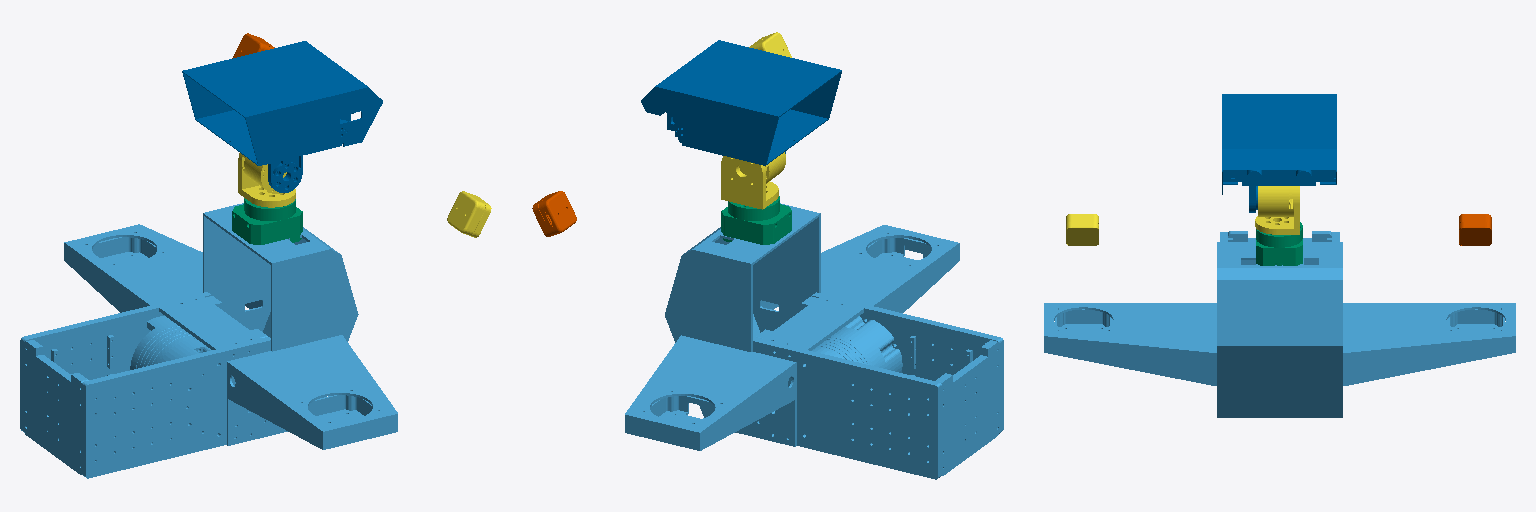
robot.urdf — arx_lift:
<?xml version="1.0" ?>
<!-- =================================================================================== -->
<!-- |    This document was autogenerated by xacro from robot.xacro                    | -->
<!-- |    EDITING THIS FILE BY HAND IS NOT RECOMMENDED                                 | -->
<!-- =================================================================================== -->
<robot name="arx_lift">
  <link name="left_base_link">
    <inertial>
      <origin xyz="-3.0001E-05 3.0589E-05 0.027324"/>
      <mass value="0.43995"/>
      <inertia ixx="0.00017" ixy="0.00000" ixz="0.00000" iyy="0.00017" iyz="0.00000" izz="0.00016"/>
    </inertial>
    <visual>
      <geometry>
        <mesh filename="package://arx5_description/meshes/x5/base_link.obj"/>
      </geometry>
    </visual>
    <collision>
      <geometry>
        <mesh filename="package://arx5_description/meshes/x5/base_link.obj"/>
      </geometry>
    </collision>
  </link>
  <link name="left_link1">
    <inertial>
      <origin xyz="0.0054231 -0.0080289 0.017086"/>
      <mass value="0.066982"/>
      <inertia ixx="0.00008" ixy="0.00000" ixz="0.00001" iyy="0.00003" iyz="0.00000" izz="0.00008"/>
    </inertial>
    <visual>
      <geometry>
        <mesh filename="package://arx5_description/meshes/x5/link1.obj"/>
      </geometry>
    </visual>
    <collision>
      <geometry>
        <mesh filename="package://arx5_description/meshes/x5/link1.obj"/>
      </geometry>
    </collision>
  </link>
  <joint name="left_joint1" type="revolute">
    <origin xyz="0 0 0.0605"/>
    <parent link="left_base_link"/>
    <child link="left_link1"/>
    <axis xyz="0 0 1"/>
    <limit effort="100" lower="-2.87" upper="3.14" velocity="5"/>
  </joint>
  <link name="left_link2">
    <inertial>
      <origin xyz="-0.13237 0.0020852 0.00010549"/>
      <mass value="1.0795"/>
      <inertia ixx="0.00051" ixy="0.00001" ixz="-0.00004" iyy="0.01599" iyz="0.00000" izz="0.01605"/>
    </inertial>
    <visual>
      <geometry>
        <mesh filename="package://arx5_description/meshes/x5/link2.obj"/>
      </geometry>
    </visual>
    <collision>
      <geometry>
        <mesh filename="package://arx5_description/meshes/x5/link2.obj"/>
      </geometry>
    </collision>
  </link>
  <joint name="left_joint2" type="revolute">
    <origin xyz="0.02 0 0.04"/>
    <parent link="left_link1"/>
    <child link="left_link2"/>
    <axis xyz="0 1 0"/>
    <limit effort="100" lower="0" upper="3.66" velocity="5"/>
  </joint>
  <link name="left_link3">
    <inertial>
      <origin xyz="0.18531 0.00068376 -0.051638"/>
      <mass value="0.54534"/>
      <inertia ixx="0.00036" ixy="-0.00003" ixz="-0.00039" iyy="0.00423" iyz="0.00001" izz="0.00420"/>
    </inertial>
    <visual>
      <geometry>
        <mesh filename="package://arx5_description/meshes/x5/link3.obj"/>
      </geometry>
    </visual>
    <collision>
      <geometry>
        <mesh filename="package://arx5_description/meshes/x5/link3.obj"/>
      </geometry>
    </collision>
  </link>
  <joint name="left_joint3" type="revolute">
    <origin rpy="3.1416 0 0" xyz="-0.264 0 0"/>
    <parent link="left_link2"/>
    <child link="left_link3"/>
    <axis xyz="0 1 0"/>
    <limit effort="100" lower="0" upper="3.14" velocity="5"/>
  </joint>
  <link name="left_link4">
    <inertial>
      <origin xyz="0.040231 0.0044807 -0.035335"/>
      <mass value="0.11714"/>
      <inertia ixx="0.00019" ixy="-0.00002" ixz="-0.00009" iyy="0.00023" iyz="0.00002" izz="0.00014"/>
    </inertial>
    <visual>
      <geometry>
        <mesh filename="package://arx5_description/meshes/x5/link4.obj"/>
      </geometry>
    </visual>
    <collision>
      <geometry>
        <mesh filename="package://arx5_description/meshes/x5/link4.obj"/>
      </geometry>
    </collision>
  </link>
  <joint name="left_joint4" type="revolute">
    <origin xyz="0.245 0 -0.056"/>
    <parent link="left_link3"/>
    <child link="left_link4"/>
    <axis xyz="0 1 0"/>
    <limit effort="100" lower="-1.57" upper="1.57" velocity="5"/>
  </joint>
  <link name="left_link5">
    <inertial>
      <origin xyz="0.003612 -1.5455E-05 0.055214"/>
      <mass value="0.63488"/>
      <inertia ixx="0.00083" ixy="0.00000" ixz="0.00007" iyy="0.00082" iyz="0.00000" izz="0.00026"/>
    </inertial>
    <visual>
      <origin xyz="0.0037 0 0"/>
      <geometry>
        <mesh filename="package://arx5_description/meshes/x5/link5.obj"/>
      </geometry>
    </visual>
    <collision>
      <geometry>
        <mesh filename="package://arx5_description/meshes/x5/link5.obj"/>
      </geometry>
    </collision>
  </link>
  <joint name="left_joint5" type="revolute">
    <origin xyz="0.06775 0.0005 -0.0865"/>
    <parent link="left_link4"/>
    <child link="left_link5"/>
    <axis xyz="0 0 1"/>
    <limit effort="100" lower="-1.57" upper="1.57" velocity="5"/>
  </joint>
  <link name="left_link6">
    <inertial>
      <origin xyz="0.041697 2.4368E-05 0.00014464"/>
      <mass value="0.44089"/>
      <inertia ixx="0.00038" ixy="0.00000" ixz="0.00000" iyy="0.00028" iyz="0.00000" izz="0.00050"/>
    </inertial>
    <visual>
      <geometry>
        <mesh filename="package://arx5_description/meshes/x5/link6.obj"/>
      </geometry>
    </visual>
    <collision>
      <geometry>
        <mesh filename="package://arx5_description/meshes/x5/link6.obj"/>
      </geometry>
    </collision>
  </link>
  <joint name="left_joint6" type="revolute">
    <origin rpy="-3.1416 0 0" xyz="0.02895 0 0.0865"/>
    <parent link="left_link5"/>
    <child link="left_link6"/>
    <axis xyz="1 0 0"/>
    <limit effort="100" lower="-1.57" upper="1.57" velocity="5"/>
  </joint>
  <link name="left_link7">
    <inertial>
      <origin xyz="-0.00035522 -0.007827 -0.0029883"/>
      <mass value="0.064798"/>
      <inertia ixx="0.00002" ixy="0.00000" ixz="0.00000" iyy="0.00003" iyz="0.00000" izz="0.00003"/>
    </inertial>
    <visual>
      <geometry>
        <mesh filename="package://arx5_description/meshes/x5/link7.obj"/>
      </geometry>
    </visual>
    <collision>
      <geometry>
        <mesh filename="package://arx5_description/meshes/x5/link7.obj"/>
      </geometry>
    </collision>
  </link>
  <joint name="left_gripper_joint" type="prismatic">
    <origin xyz="0.08657 0.024896 -0.0002436"/>
    <parent link="left_link6"/>
    <child link="left_link7"/>
    <axis xyz="0 1 0"/>
    <limit effort="100" lower="0" upper="0.044" velocity="5"/>
  </joint>
  <link name="left_link8">
    <inertial>
      <origin xyz="-0.00035522 0.0078277 0.0024201"/>
      <mass value="0.064798"/>
      <inertia ixx="0.00002" ixy="0.00000" ixz="0.00000" iyy="0.00003" iyz="0.00000" izz="0.00003"/>
    </inertial>
    <visual>
      <geometry>
        <mesh filename="package://arx5_description/meshes/x5/link8.obj"/>
      </geometry>
    </visual>
    <collision>
      <geometry>
        <mesh filename="package://arx5_description/meshes/x5/link8.obj"/>
      </geometry>
    </collision>
  </link>
  <joint name="left_joint8" type="prismatic">
    <origin xyz="0.08657 -0.0249 -0.00024366"/>
    <parent link="left_link6"/>
    <child link="left_link8"/>
    <axis xyz="0 -1 0"/>
    <limit effort="100" lower="0" upper="0.044" velocity="5"/>
    <mimic joint="left_gripper_joint" multiplier="1" offset="0"/>
  </joint>
  <link name="left_gripper_center"/>
  <joint name="left_gripper_center_fixed" type="fixed">
    <parent link="left_link6"/>
    <child link="left_gripper_center"/>
    <origin xyz="0.145 0 0"/>
  </joint>
  <link name="left_left_pad"/>
  <joint name="left_left_pad_joint" type="fixed">
    <parent link="left_link7"/>
    <child link="left_left_pad"/>
    <origin xyz="0.05843 -0.0249 0"/>
  </joint>
  <link name="left_right_pad"/>
  <joint name="left_right_pad_joint" type="fixed">
    <parent link="left_link8"/>
    <child link="left_right_pad"/>
    <origin xyz="0.05843 0.0249 0"/>
  </joint>
  <link name="left_camera_support">
    <visual>
      <geometry>
        <mesh filename="package://arx5_description/meshes/camera_support.obj"/>
      </geometry>
    </visual>
  </link>
  <joint name="left_camera_support_fixed" type="fixed">
    <parent link="left_link6"/>
    <child link="left_camera_support"/>
    <origin xyz="0.045 0 0.021"/>
  </joint>
  <link name="left_camera">
    <visual>
      <geometry>
        <mesh filename="package://arx5_description/meshes/d405.obj"/>
      </geometry>
    </visual>
  </link>
  <joint name="left_camera_fixed" type="fixed">
    <origin rpy="0 0.523 0" xyz="0.0385 0 0.0475"/>
    <parent link="left_camera_support"/>
    <child link="left_camera"/>
  </joint>
  <link name="right_base_link">
    <inertial>
      <origin xyz="-3.0001E-05 3.0589E-05 0.027324"/>
      <mass value="0.43995"/>
      <inertia ixx="0.00017" ixy="0.00000" ixz="0.00000" iyy="0.00017" iyz="0.00000" izz="0.00016"/>
    </inertial>
    <visual>
      <geometry>
        <mesh filename="package://arx5_description/meshes/x5/base_link.obj"/>
      </geometry>
    </visual>
    <collision>
      <geometry>
        <mesh filename="package://arx5_description/meshes/x5/base_link.obj"/>
      </geometry>
    </collision>
  </link>
  <link name="right_link1">
    <inertial>
      <origin xyz="0.0054231 -0.0080289 0.017086"/>
      <mass value="0.066982"/>
      <inertia ixx="0.00008" ixy="0.00000" ixz="0.00001" iyy="0.00003" iyz="0.00000" izz="0.00008"/>
    </inertial>
    <visual>
      <geometry>
        <mesh filename="package://arx5_description/meshes/x5/link1.obj"/>
      </geometry>
    </visual>
    <collision>
      <geometry>
        <mesh filename="package://arx5_description/meshes/x5/link1.obj"/>
      </geometry>
    </collision>
  </link>
  <joint name="right_joint1" type="revolute">
    <origin xyz="0 0 0.0605"/>
    <parent link="right_base_link"/>
    <child link="right_link1"/>
    <axis xyz="0 0 1"/>
    <limit effort="100" lower="-2.87" upper="3.14" velocity="5"/>
  </joint>
  <link name="right_link2">
    <inertial>
      <origin xyz="-0.13237 0.0020852 0.00010549"/>
      <mass value="1.0795"/>
      <inertia ixx="0.00051" ixy="0.00001" ixz="-0.00004" iyy="0.01599" iyz="0.00000" izz="0.01605"/>
    </inertial>
    <visual>
      <geometry>
        <mesh filename="package://arx5_description/meshes/x5/link2.obj"/>
      </geometry>
    </visual>
    <collision>
      <geometry>
        <mesh filename="package://arx5_description/meshes/x5/link2.obj"/>
      </geometry>
    </collision>
  </link>
  <joint name="right_joint2" type="revolute">
    <origin xyz="0.02 0 0.04"/>
    <parent link="right_link1"/>
    <child link="right_link2"/>
    <axis xyz="0 1 0"/>
    <limit effort="100" lower="0" upper="3.66" velocity="5"/>
  </joint>
  <link name="right_link3">
    <inertial>
      <origin xyz="0.18531 0.00068376 -0.051638"/>
      <mass value="0.54534"/>
      <inertia ixx="0.00036" ixy="-0.00003" ixz="-0.00039" iyy="0.00423" iyz="0.00001" izz="0.00420"/>
    </inertial>
    <visual>
      <geometry>
        <mesh filename="package://arx5_description/meshes/x5/link3.obj"/>
      </geometry>
    </visual>
    <collision>
      <geometry>
        <mesh filename="package://arx5_description/meshes/x5/link3.obj"/>
      </geometry>
    </collision>
  </link>
  <joint name="right_joint3" type="revolute">
    <origin rpy="3.1416 0 0" xyz="-0.264 0 0"/>
    <parent link="right_link2"/>
    <child link="right_link3"/>
    <axis xyz="0 1 0"/>
    <limit effort="100" lower="0" upper="3.14" velocity="5"/>
  </joint>
  <link name="right_link4">
    <inertial>
      <origin xyz="0.040231 0.0044807 -0.035335"/>
      <mass value="0.11714"/>
      <inertia ixx="0.00019" ixy="-0.00002" ixz="-0.00009" iyy="0.00023" iyz="0.00002" izz="0.00014"/>
    </inertial>
    <visual>
      <geometry>
        <mesh filename="package://arx5_description/meshes/x5/link4.obj"/>
      </geometry>
    </visual>
    <collision>
      <geometry>
        <mesh filename="package://arx5_description/meshes/x5/link4.obj"/>
      </geometry>
    </collision>
  </link>
  <joint name="right_joint4" type="revolute">
    <origin xyz="0.245 0 -0.056"/>
    <parent link="right_link3"/>
    <child link="right_link4"/>
    <axis xyz="0 1 0"/>
    <limit effort="100" lower="-1.57" upper="1.57" velocity="5"/>
  </joint>
  <link name="right_link5">
    <inertial>
      <origin xyz="0.003612 -1.5455E-05 0.055214"/>
      <mass value="0.63488"/>
      <inertia ixx="0.00083" ixy="0.00000" ixz="0.00007" iyy="0.00082" iyz="0.00000" izz="0.00026"/>
    </inertial>
    <visual>
      <origin xyz="0.0037 0 0"/>
      <geometry>
        <mesh filename="package://arx5_description/meshes/x5/link5.obj"/>
      </geometry>
    </visual>
    <collision>
      <geometry>
        <mesh filename="package://arx5_description/meshes/x5/link5.obj"/>
      </geometry>
    </collision>
  </link>
  <joint name="right_joint5" type="revolute">
    <origin xyz="0.06775 0.0005 -0.0865"/>
    <parent link="right_link4"/>
    <child link="right_link5"/>
    <axis xyz="0 0 1"/>
    <limit effort="100" lower="-1.57" upper="1.57" velocity="5"/>
  </joint>
  <link name="right_link6">
    <inertial>
      <origin xyz="0.041697 2.4368E-05 0.00014464"/>
      <mass value="0.44089"/>
      <inertia ixx="0.00038" ixy="0.00000" ixz="0.00000" iyy="0.00028" iyz="0.00000" izz="0.00050"/>
    </inertial>
    <visual>
      <geometry>
        <mesh filename="package://arx5_description/meshes/x5/link6.obj"/>
      </geometry>
    </visual>
    <collision>
      <geometry>
        <mesh filename="package://arx5_description/meshes/x5/link6.obj"/>
      </geometry>
    </collision>
  </link>
  <joint name="right_joint6" type="revolute">
    <origin rpy="-3.1416 0 0" xyz="0.02895 0 0.0865"/>
    <parent link="right_link5"/>
    <child link="right_link6"/>
    <axis xyz="1 0 0"/>
    <limit effort="100" lower="-1.57" upper="1.57" velocity="5"/>
  </joint>
  <link name="right_link7">
    <inertial>
      <origin xyz="-0.00035522 -0.007827 -0.0029883"/>
      <mass value="0.064798"/>
      <inertia ixx="0.00002" ixy="0.00000" ixz="0.00000" iyy="0.00003" iyz="0.00000" izz="0.00003"/>
    </inertial>
    <visual>
      <geometry>
        <mesh filename="package://arx5_description/meshes/x5/link7.obj"/>
      </geometry>
    </visual>
    <collision>
      <geometry>
        <mesh filename="package://arx5_description/meshes/x5/link7.obj"/>
      </geometry>
    </collision>
  </link>
  <joint name="right_gripper_joint" type="prismatic">
    <origin xyz="0.08657 0.024896 -0.0002436"/>
    <parent link="right_link6"/>
    <child link="right_link7"/>
    <axis xyz="0 1 0"/>
    <limit effort="100" lower="0" upper="0.044" velocity="5"/>
  </joint>
  <link name="right_link8">
    <inertial>
      <origin xyz="-0.00035522 0.0078277 0.0024201"/>
      <mass value="0.064798"/>
      <inertia ixx="0.00002" ixy="0.00000" ixz="0.00000" iyy="0.00003" iyz="0.00000" izz="0.00003"/>
    </inertial>
    <visual>
      <geometry>
        <mesh filename="package://arx5_description/meshes/x5/link8.obj"/>
      </geometry>
    </visual>
    <collision>
      <geometry>
        <mesh filename="package://arx5_description/meshes/x5/link8.obj"/>
      </geometry>
    </collision>
  </link>
  <joint name="right_joint8" type="prismatic">
    <origin xyz="0.08657 -0.0249 -0.00024366"/>
    <parent link="right_link6"/>
    <child link="right_link8"/>
    <axis xyz="0 -1 0"/>
    <limit effort="100" lower="0" upper="0.044" velocity="5"/>
    <mimic joint="right_gripper_joint" multiplier="1" offset="0"/>
  </joint>
  <link name="right_gripper_center"/>
  <joint name="right_gripper_center_fixed" type="fixed">
    <parent link="right_link6"/>
    <child link="right_gripper_center"/>
    <origin xyz="0.145 0 0"/>
  </joint>
  <link name="right_left_pad"/>
  <joint name="right_left_pad_joint" type="fixed">
    <parent link="right_link7"/>
    <child link="right_left_pad"/>
    <origin xyz="0.05843 -0.0249 0"/>
  </joint>
  <link name="right_right_pad"/>
  <joint name="right_right_pad_joint" type="fixed">
    <parent link="right_link8"/>
    <child link="right_right_pad"/>
    <origin xyz="0.05843 0.0249 0"/>
  </joint>
  <link name="right_camera_support">
    <visual>
      <geometry>
        <mesh filename="package://arx5_description/meshes/camera_support.obj"/>
      </geometry>
    </visual>
  </link>
  <joint name="right_camera_support_fixed" type="fixed">
    <parent link="right_link6"/>
    <child link="right_camera_support"/>
    <origin xyz="0.045 0 0.021"/>
  </joint>
  <link name="right_camera">
    <visual>
      <geometry>
        <mesh filename="package://arx5_description/meshes/d405.obj"/>
      </geometry>
    </visual>
  </link>
  <joint name="right_camera_fixed" type="fixed">
    <origin rpy="0 0.523 0" xyz="0.0385 0 0.0475"/>
    <parent link="right_camera_support"/>
    <child link="right_camera"/>
  </joint>
  <link name="base_link"/>
  <joint name="base_joint" type="fixed">
    <origin rpy="0 0 3.14159"/>
    <parent link="base_link"/>
    <child link="base"/>
  </joint>
  <link name="base">
    <inertial>
      <origin xyz="0.015300075250394498 -0.0039712791148939055 0.21685783167580347"/>
      <mass value="67.7696558151508"/>
      <inertia ixx="7.900786" ixy="-0.021075" ixz="0.25289" iyy="8.068966" iyz="0.12408" izz="2.254894"/>
    </inertial>
    <visual>
      <geometry>
        <mesh filename="package://arx_lift_description/meshes/base_link.obj"/>
      </geometry>
    </visual>
    <collision>
      <geometry>
        <mesh filename="package://arx_lift_description/meshes/base_link.obj"/>
      </geometry>
    </collision>
  </link>
  <link name="wheel_1">
    <inertial>
      <origin xyz="-0.0013052205916280202 0.0022598671755268973 1.318970376112949e-07"/>
      <mass value="4.24803000494366"/>
      <inertia ixx="0.008031" ixy="-0.002428" ixz="0.0" iyy="0.010834" iyz="0.0" izz="0.006629"/>
    </inertial>
  </link>
  <link name="wheel_2">
    <inertial>
      <origin xyz="-0.0013052205916208315 -0.0022598671755325594 -1.318970357273852e-07"/>
      <mass value="4.24803000494366"/>
      <inertia ixx="0.008031" ixy="0.002428" ixz="-0.0" iyy="0.010834" iyz="0.0" izz="0.006629"/>
    </inertial>
  </link>
  <link name="wheel_3">
    <inertial>
      <origin xyz="0.0026089441594678298 -1.3189703553351252e-07 2.8695680726054107e-07"/>
      <mass value="4.24803000494366"/>
      <inertia ixx="0.012235" ixy="-0.0" ixz="0.0" iyy="0.006629" iyz="0.0" izz="0.006629"/>
    </inertial>
  </link>
  <joint name="joint_wheel1" type="fixed">
    <origin xyz="-0.182349 0.315838 0.03"/>
    <parent link="base"/>
    <child link="wheel_1"/>
  </joint>
  <joint name="joint_wheel2" type="fixed">
    <origin xyz="-0.182349 -0.315838 0.03"/>
    <parent link="base"/>
    <child link="wheel_2"/>
    <axis xyz="-0.5 -0.866025 0.0"/>
  </joint>
  <joint name="joint_wheel3" type="fixed">
    <origin xyz="0.364699 0.0 0.03"/>
    <parent link="base"/>
    <child link="wheel_3"/>
    <axis xyz="1.0 0.0 -0.0"/>
  </joint>
  <link name="lift_link">
    <inertial>
      <origin xyz="-0.13956899916103924 0 0.07323798891482189"/>
      <mass value="17.38744536890084"/>
      <inertia ixx="0.187458" ixy="-0.000206" ixz="0.023942" iyy="0.178157" iyz="-0.000153" izz="0.29708"/>
    </inertial>
    <visual>
      <geometry>
        <mesh filename="package://arx_lift_description/meshes/lift.obj"/>
      </geometry>
    </visual>
    <collision>
      <geometry>
        <mesh filename="package://arx_lift_description/meshes/lift.obj"/>
      </geometry>
    </collision>
  </link>
  <joint name="joint_lift" type="prismatic">
    <origin xyz="0.022199 0 0.233"/>
    <parent link="base"/>
    <child link="lift_link"/>
    <axis xyz="0.0 0.0 1.0"/>
    <limit effort="100" lower="0.0" upper="0.86" velocity="100"/>
  </joint>
  <link name="h_base_link">
    <inertial>
      <origin xyz="-0.0020743076738515215 -1.5307881645835308e-08 -0.024619861716967787"/>
      <mass value="0.9930933606993821"/>
      <inertia ixx="0.000391" ixy="-0.0" ixz="1.7e-05" iyy="0.000452" iyz="0.0" izz="0.000532"/>
    </inertial>
    <visual>
      <geometry>
        <mesh filename="package://arx_lift_description/meshes/h_base.obj"/>
      </geometry>
    </visual>
    <collision>
      <geometry>
        <mesh filename="package://arx_lift_description/meshes/h_base.obj"/>
      </geometry>
    </collision>
  </link>
  <link name="h_link1_1">
    <inertial>
      <origin xyz="-1.3121512495483172e-08 -0.0017956601536253606 -0.0404485568834118"/>
      <mass value="1.1585686692835446"/>
      <inertia ixx="0.000714" ixy="-0.0" ixz="0.0" iyy="0.000677" iyz="3.4e-05" izz="0.000524"/>
    </inertial>
    <visual>
      <geometry>
        <mesh filename="package://arx_lift_description/meshes/h_link1.obj"/>
      </geometry>
    </visual>
    <collision>
      <geometry>
        <mesh filename="package://arx_lift_description/meshes/h_link1.obj"/>
      </geometry>
    </collision>
  </link>
  <link name="h_link2_1">
    <inertial>
      <origin xyz="0.03081593597576142 -0.022504711493597663 -0.0659240377971316"/>
      <mass value="1.5752562353484625"/>
      <inertia ixx="0.004555" ixy="0.000214" ixz="0.000252" iyy="0.004541" iyz="-0.000299" izz="0.00636"/>
    </inertial>
    <visual>
      <geometry>
        <mesh filename="package://arx_lift_description/meshes/h_link2.obj"/>
      </geometry>
    </visual>
    <collision>
      <geometry>
        <mesh filename="package://arx_lift_description/meshes/h_link2.obj"/>
      </geometry>
    </collision>
  </link>
  <joint name="joint_h_1" type="continuous">
    <origin xyz="0.0 0.0 -0.046"/>
    <parent link="h_base_link"/>
    <child link="h_link1_1"/>
    <axis xyz="0.0 -0.0 1.0"/>
    <limit effort="100" lower="-1.570796" upper="1.570796" velocity="100"/>
  </joint>
  <joint name="joint_h_2" type="continuous">
    <origin xyz="0.0 0.025 -0.047"/>
    <parent link="h_link1_1"/>
    <child link="h_link2_1"/>
    <axis xyz="-0.0 -1.0 0.0"/>
    <limit effort="100" lower="-0.785398" upper="0.785398" velocity="100"/>
  </joint>
  <joint name="h_fixed" type="fixed">
    <parent link="lift_link"/>
    <child link="h_base_link"/>
    <origin rpy="0 3.1415926 0" xyz="-0.258786 0 0.220008"/>
  </joint>
  <joint name="arm_left_fixed" type="fixed">
    <parent link="lift_link"/>
    <child link="left_base_link"/>
    <origin rpy="0 0 3.1415926" xyz="-0.208 -0.25000 0.092"/>
  </joint>
  <joint name="arm_right_fixed" type="fixed">
    <parent link="lift_link"/>
    <child link="right_base_link"/>
    <origin rpy="0 0 3.1415926" xyz="-0.208 0.25000 0.092"/>
  </joint>
</robot>

--- What the picture shows (computed from the rendered views, not written in the file) ---
3 views of the same robot in one strip: view 1: azimuth 30°, elevation 25°; view 2: azimuth 150°, elevation 25°; view 3: azimuth 270°, elevation 25° (orthographic).
Robot: arx_lift — 37 links, 36 joints (12 revolute, 2 continuous, 5 prismatic, 17 fixed); root link base_link; default pose: all joints at 0.
Visible links, largest first — view 1: lift_link, h_link2_1, h_base_link, h_link1_1, right_camera, left_camera; view 2: lift_link, h_link2_1, h_link1_1, h_base_link, left_camera, right_camera; view 3: lift_link, h_link2_1, h_link1_1, h_base_link, right_camera, left_camera.
Link boxes in pixels (bbox=[...]): lift_link: bbox=[20, 203, 397, 478]; h_link2_1: bbox=[182, 41, 382, 192]; h_base_link: bbox=[232, 198, 302, 244]; h_link1_1: bbox=[238, 153, 295, 207]; right_camera: bbox=[447, 191, 491, 237]; left_camera: bbox=[232, 33, 274, 58]; lift_link: bbox=[625, 203, 1003, 479]; h_link2_1: bbox=[641, 40, 841, 165]; h_link1_1: bbox=[721, 152, 785, 209]; h_base_link: bbox=[721, 196, 791, 244]; left_camera: bbox=[532, 191, 576, 236]; right_camera: bbox=[749, 32, 791, 57]; lift_link: bbox=[1044, 231, 1515, 417]; h_link2_1: bbox=[1222, 94, 1336, 212]; h_link1_1: bbox=[1255, 186, 1299, 234]; h_base_link: bbox=[1256, 222, 1302, 265]; right_camera: bbox=[1066, 214, 1098, 245]; left_camera: bbox=[1459, 214, 1491, 245].
Bounding box of the posed robot: 0.4315 × 0.6 × 0.4123 m (x, y, z).
Meshes: 16 distinct files referenced, 6 mesh visuals loaded (5 OBJ); not drawn: 21 (reference not matched to a file when rendering).